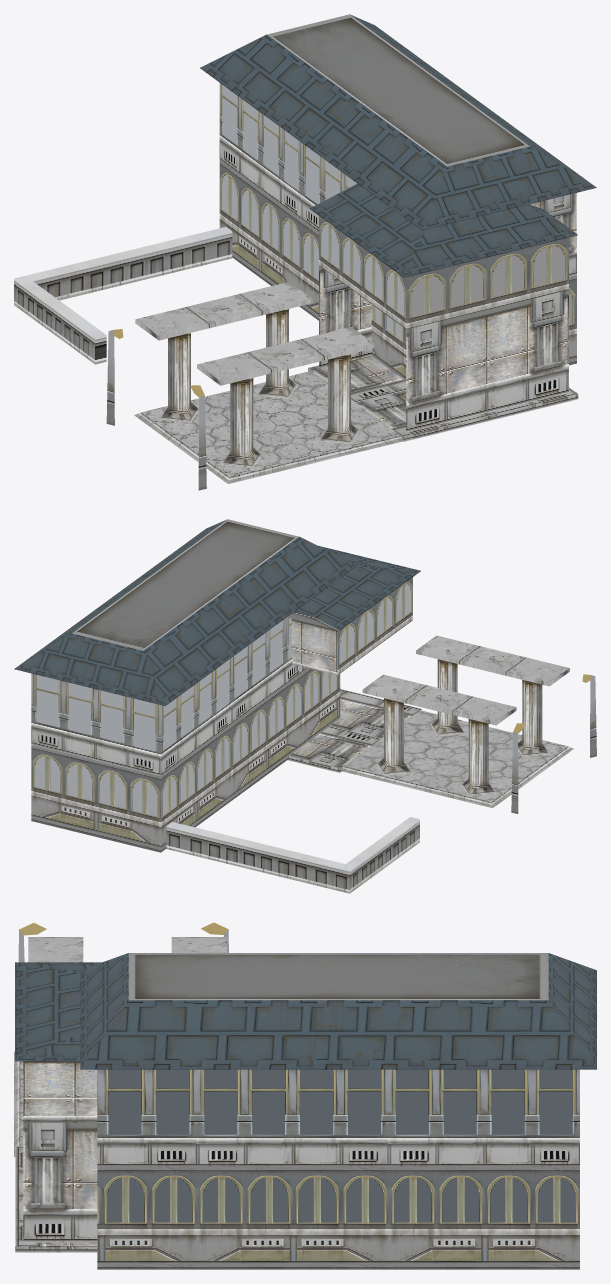
Rendered from s_gov2_hdtex.glb.
3 views of the same model, one above another, from view 1: azimuth 30°, elevation 25°; view 2: azimuth 150°, elevation 25°; view 3: azimuth 270°, elevation 25° (orthographic). The views are drawn at different scales.
Parts seen in each view (by area): view 1: S_Gov2a, LitWin_S_gov2; view 2: S_Gov2a, LitWin_S_gov2; view 3: S_Gov2a, LitWin_S_gov2.
Boxes of the visible parts, bbox=[...] form: S_Gov2a: bbox=[14, 14, 596, 490]; LitWin_S_gov2: bbox=[221, 85, 572, 340]; S_Gov2a: bbox=[14, 519, 596, 893]; LitWin_S_gov2: bbox=[35, 584, 411, 816]; S_Gov2a: bbox=[14, 922, 596, 1269]; LitWin_S_gov2: bbox=[107, 1069, 575, 1222].
Size of the model in its own units: 21.78 by 10.6 by 22.17.
7 materials, 7 textured.
